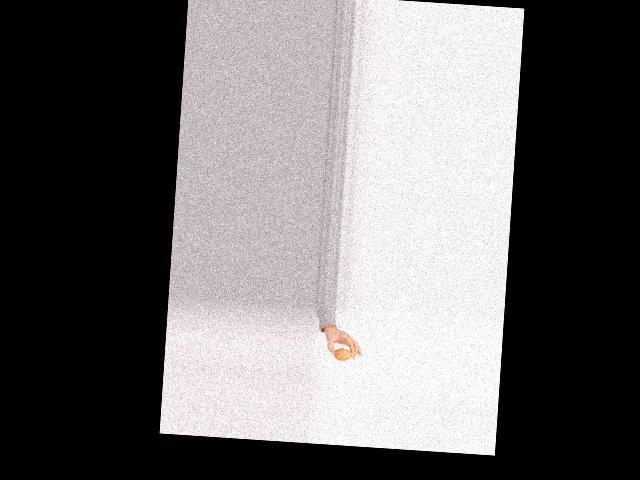egg: (333, 348, 352, 361)
